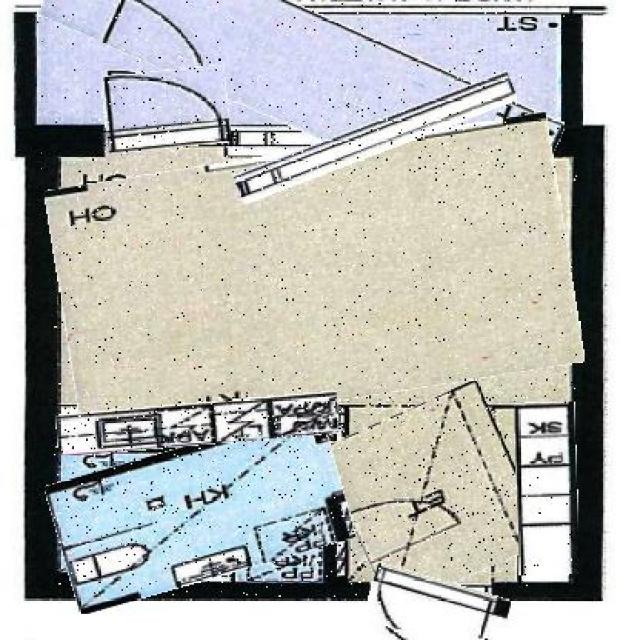door: (103, 68, 229, 150), (364, 572, 508, 640)
window: (231, 98, 518, 178)
zone: (54, 132, 577, 422), (35, 0, 564, 175), (51, 426, 349, 597), (334, 392, 534, 597), (57, 397, 338, 451), (516, 403, 578, 575)
